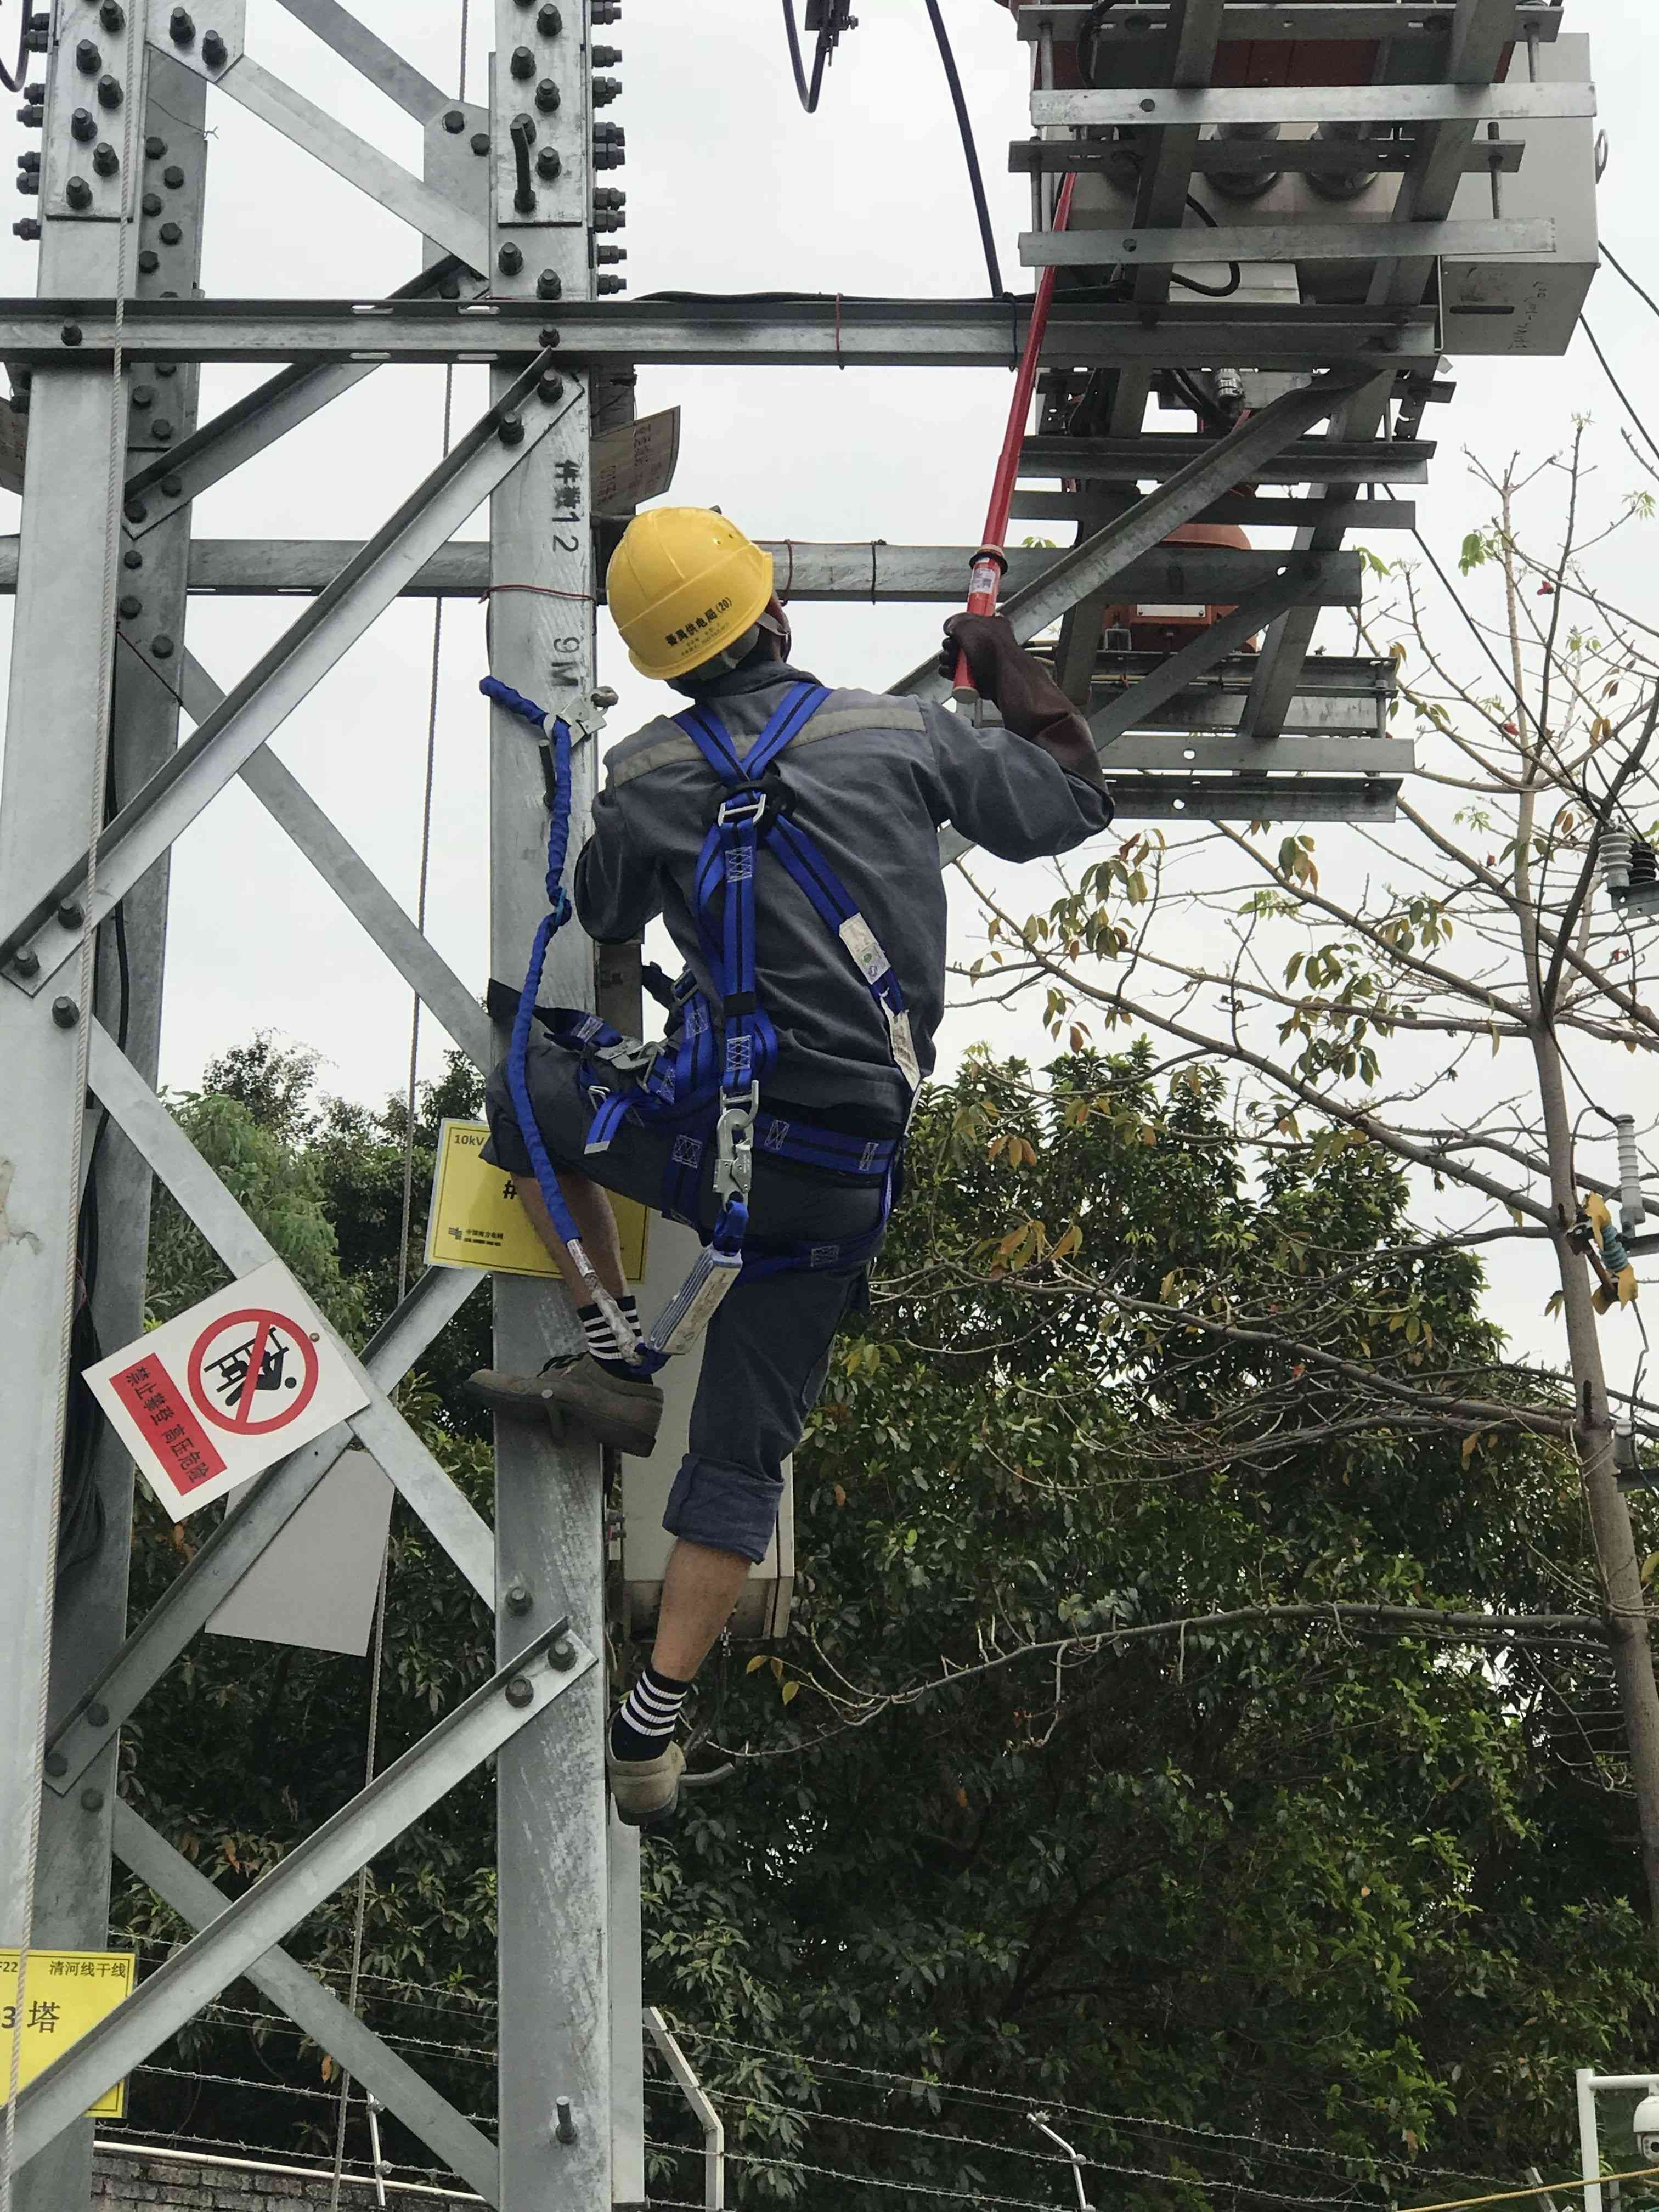downsuit: (497, 1047, 908, 1566)
upsuit: (582, 665, 1089, 1103)
wrongbottom: (634, 1461, 786, 1738), (505, 1116, 633, 1331)
